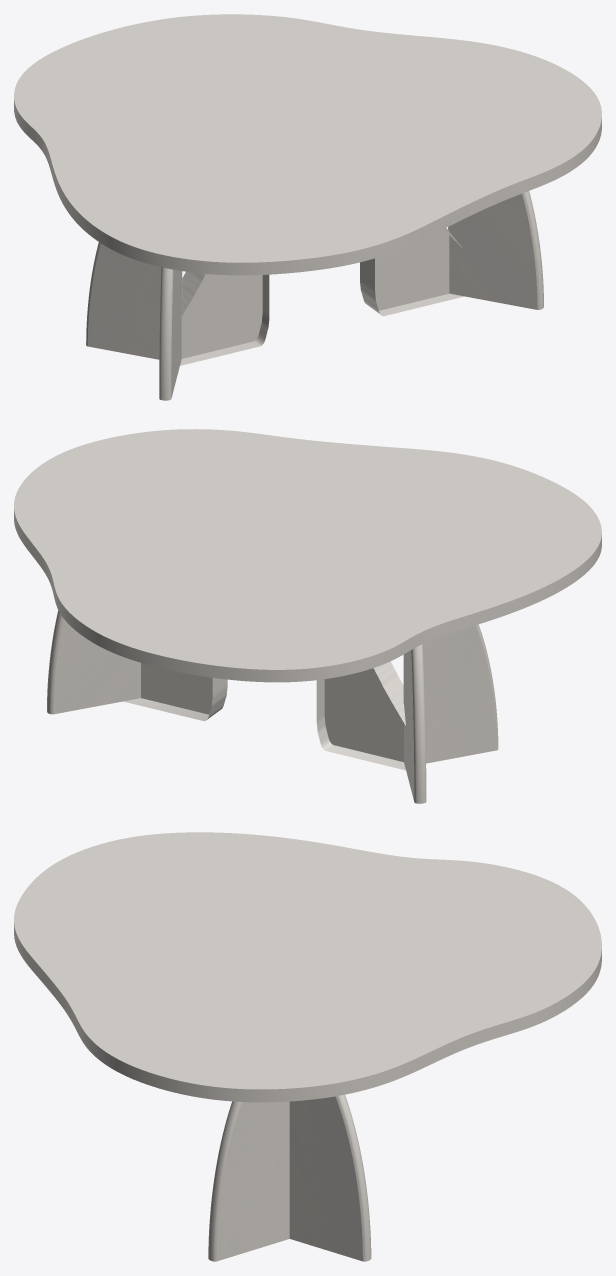
Rendered from pearlwhite_topone_standard_plane.glb.
3 renders of one model, top to bottom at view 1: azimuth 30°, elevation 25°; view 2: azimuth 150°, elevation 25°; view 3: azimuth 270°, elevation 25°, orthographic. The views are drawn at different scales.
Visible parts, largest first — view 1: standard_topone, plane_singleright2, plane_single1, plane_singleleft1, plane_single2, plane_singleright1; view 2: standard_topone, plane_singleright1, plane_single1, plane_singleleft2, plane_single2, plane_singleleft1; view 3: standard_topone, plane_singleleft2, plane_singleright2.
Part boxes in pixels (x1,y1,x2,y2): standard_topone: [14, 14, 601, 275]; plane_singleright2: [448, 191, 543, 309]; plane_single1: [180, 271, 269, 365]; plane_singleleft1: [86, 242, 182, 359]; plane_single2: [360, 228, 464, 316]; plane_singleright1: [159, 267, 181, 400]; standard_topone: [14, 429, 601, 682]; plane_singleright1: [403, 624, 498, 763]; plane_single1: [316, 661, 405, 770]; plane_singleleft2: [47, 610, 140, 714]; plane_single2: [123, 663, 227, 720]; plane_singleleft1: [404, 644, 426, 803]; standard_topone: [14, 832, 601, 1102]; plane_singleleft2: [289, 1094, 371, 1261]; plane_singleright2: [208, 1101, 289, 1261].
Size of the model in its own units: 6.83 by 2.49 by 6.6.
Materials: 1 (1 with a texture image).
